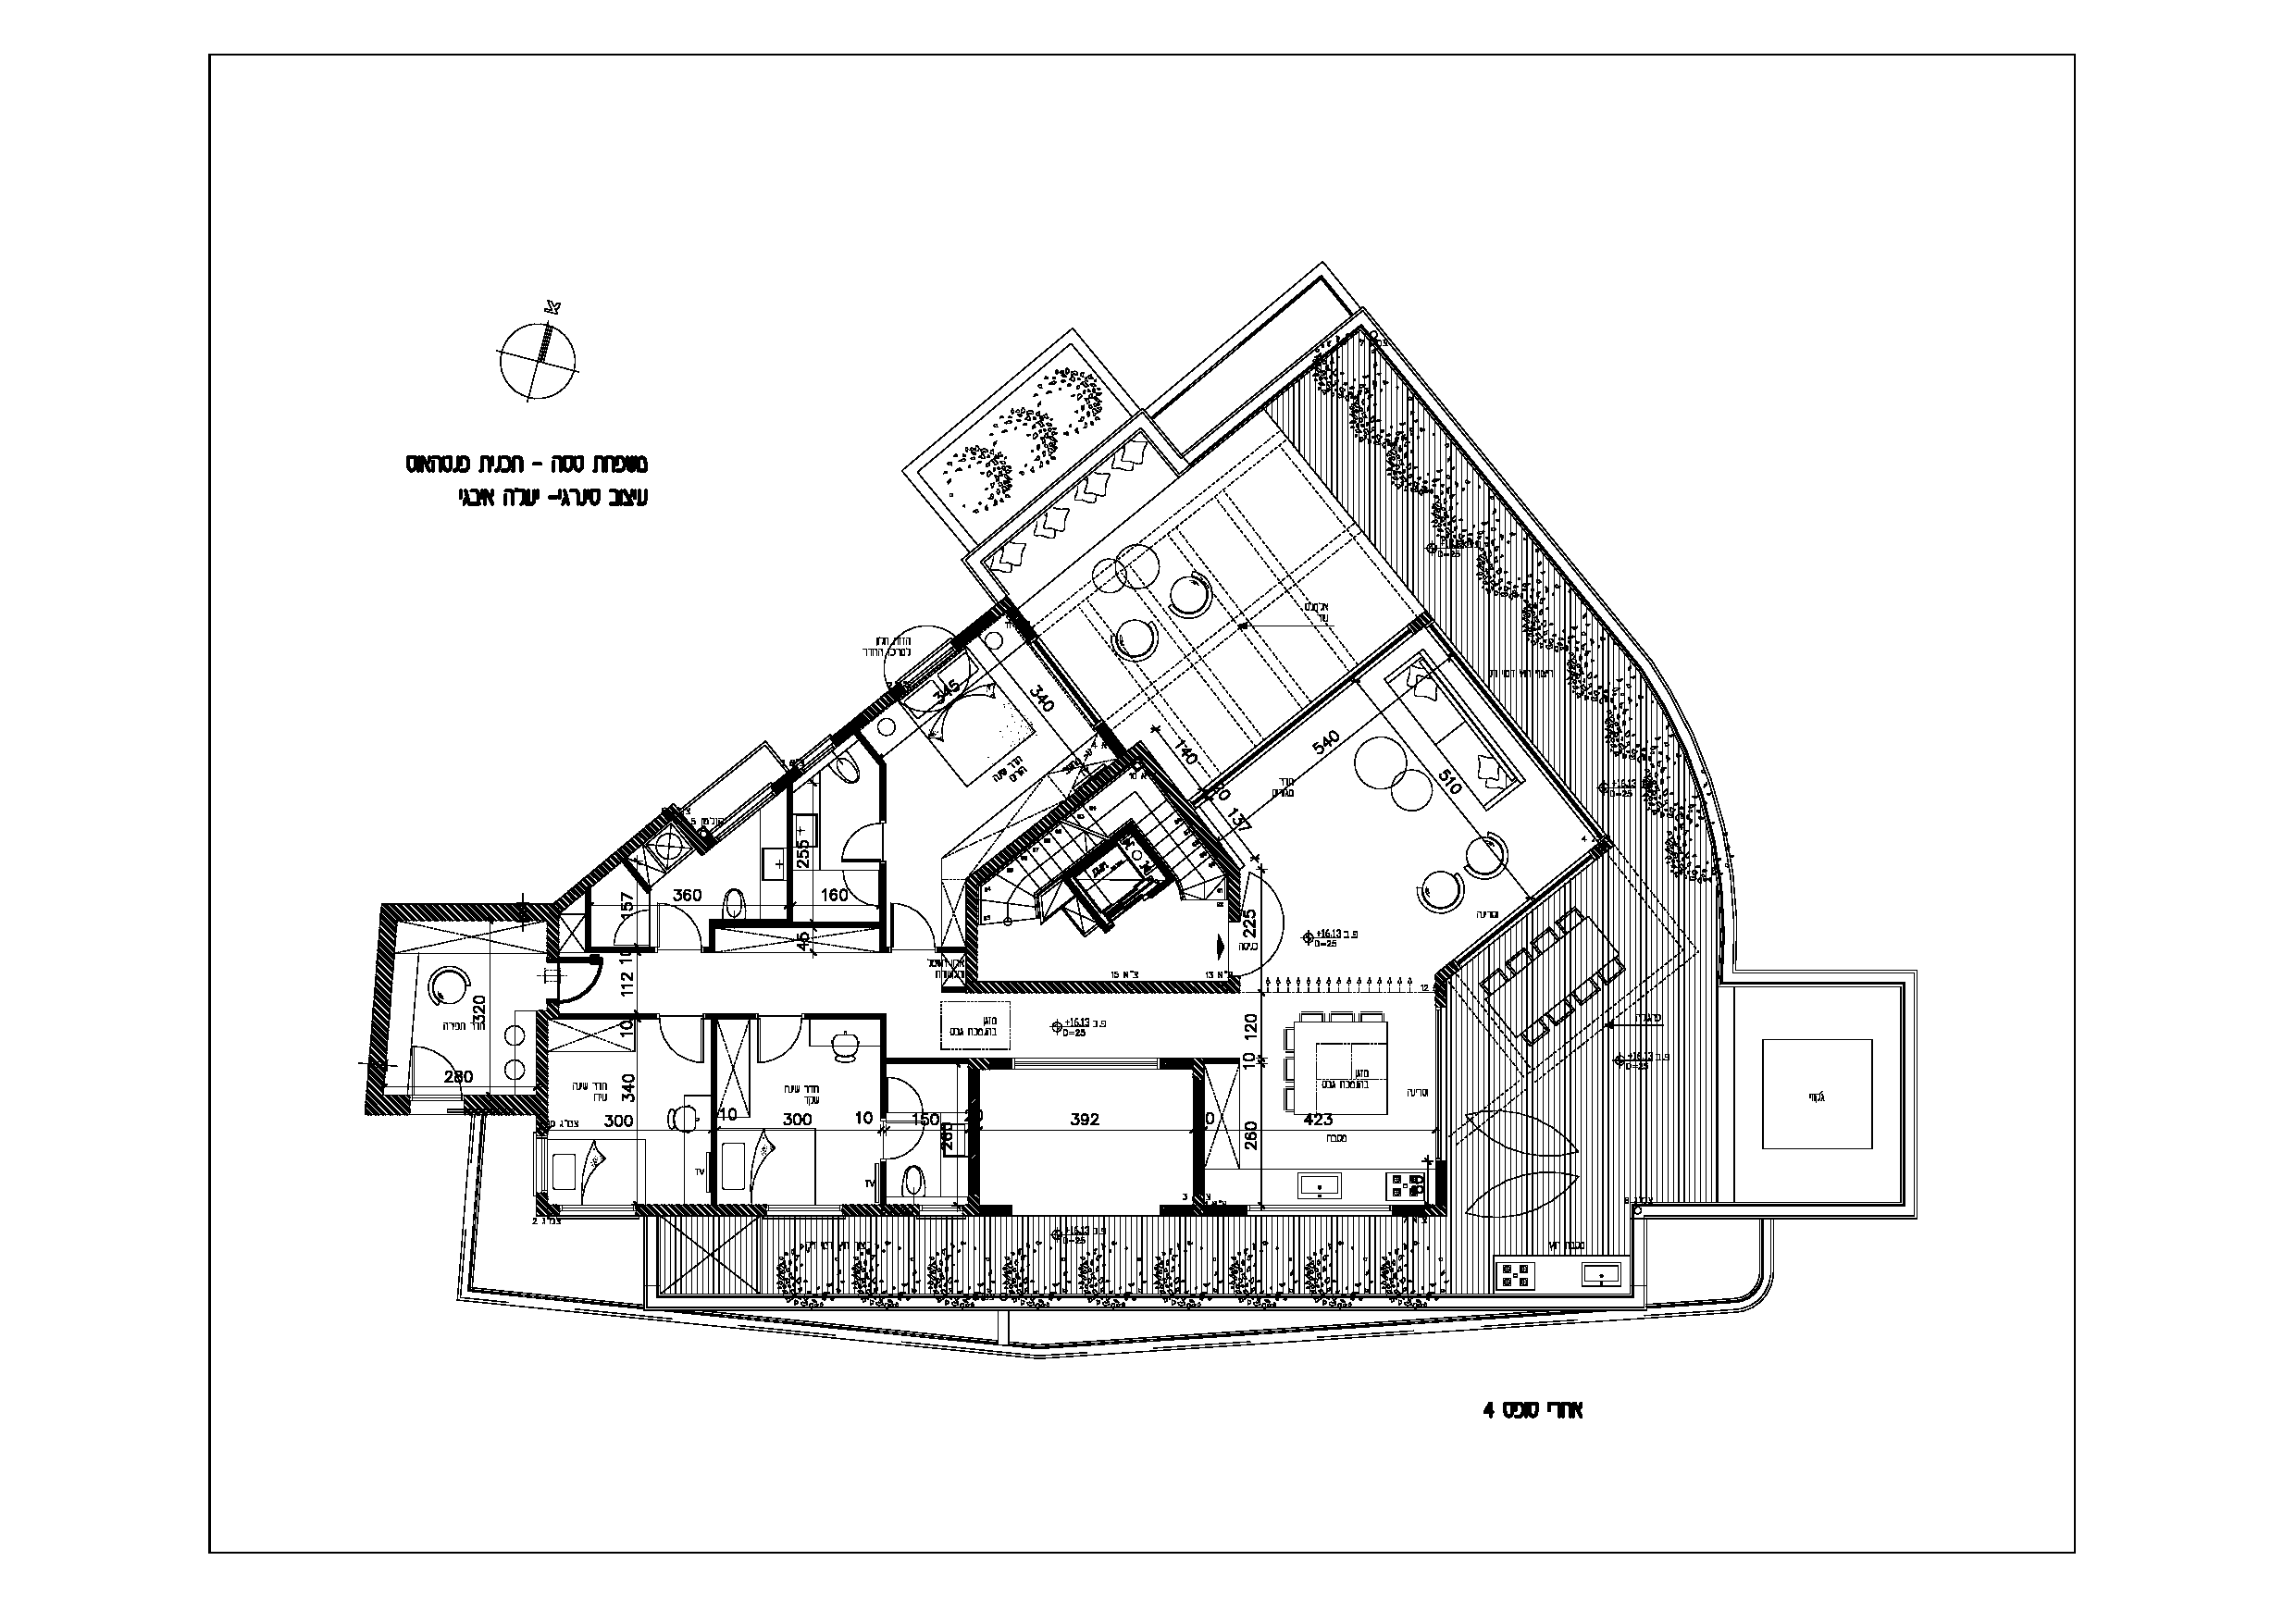door: (401, 1036, 469, 1107), (827, 810, 894, 880), (645, 1005, 711, 1075), (541, 943, 608, 1012), (878, 898, 950, 956), (741, 1012, 812, 1070), (864, 1121, 938, 1175), (868, 1068, 942, 1121), (652, 896, 710, 963), (611, 896, 653, 959)
wall: (350, 882, 409, 1138)
window: (713, 782, 782, 854), (1238, 1198, 1405, 1224), (775, 736, 861, 787), (755, 1198, 859, 1235), (555, 1194, 659, 1230), (901, 1198, 980, 1231)
